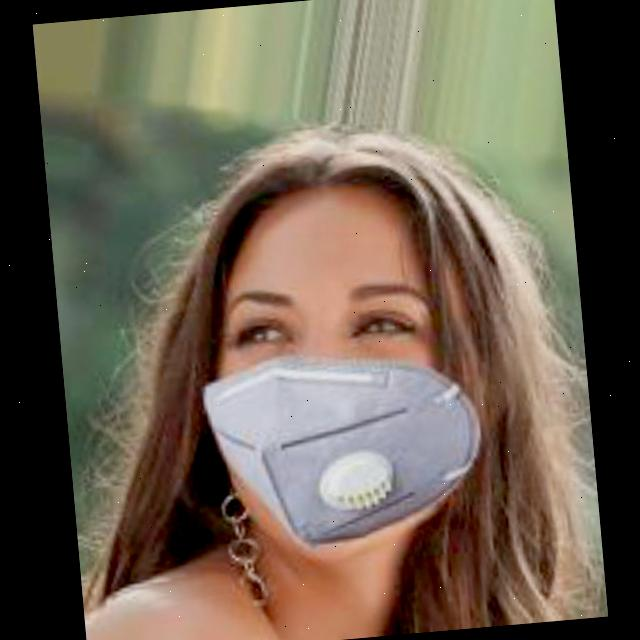suspicion: (164, 148, 472, 583)
